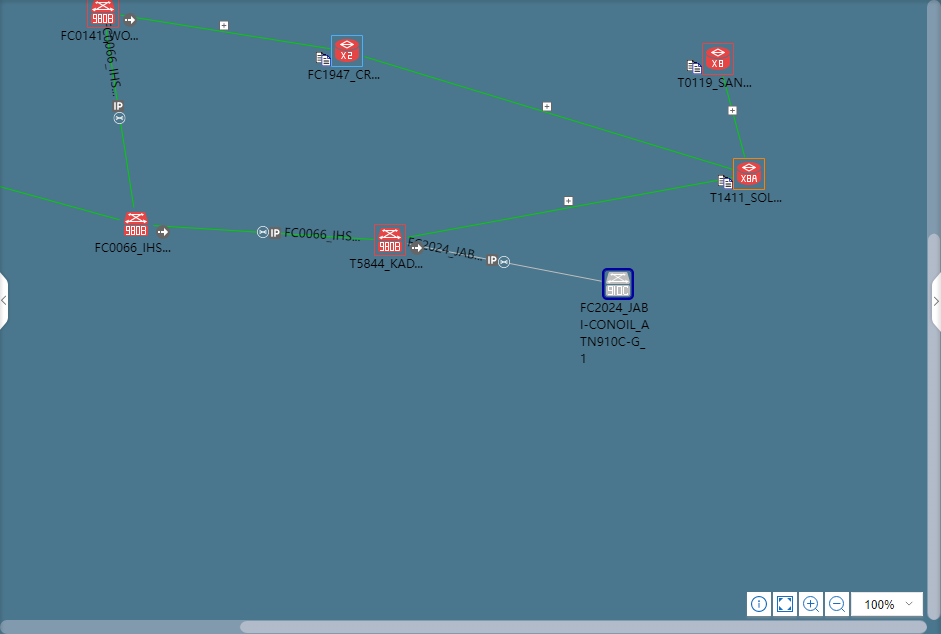ATN_Gray: (602, 269, 633, 300)
ATN_Red: (87, 0, 118, 25), (376, 226, 402, 252), (124, 212, 147, 236)
Link_Gray: (407, 243, 601, 283)
Link_Green: (365, 54, 731, 172), (407, 177, 718, 239), (120, 13, 330, 51), (104, 29, 136, 208), (0, 184, 120, 223), (153, 223, 374, 242), (722, 77, 748, 156)
Router_Red: (733, 158, 764, 189), (703, 44, 733, 70), (333, 38, 360, 62)
